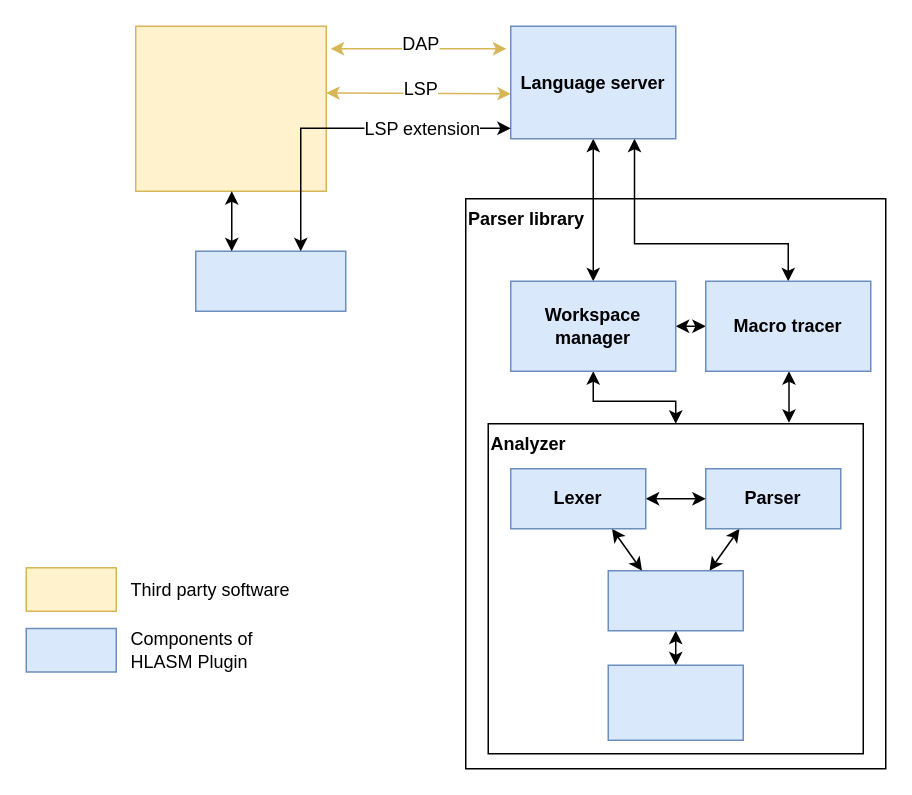
Image size: 912x795. Some labels were removed from this diagram. Here are the shapes that lost their labels. From the top down, the centre of each, then its label:
At [230,108]: "Editor or IDE (e.g. VS Code)".
At [270,280]: "HLASM Plugin extension".
At [675,600]: "Instruction interpretation".
At [675,702]: "Instruction format validation".
